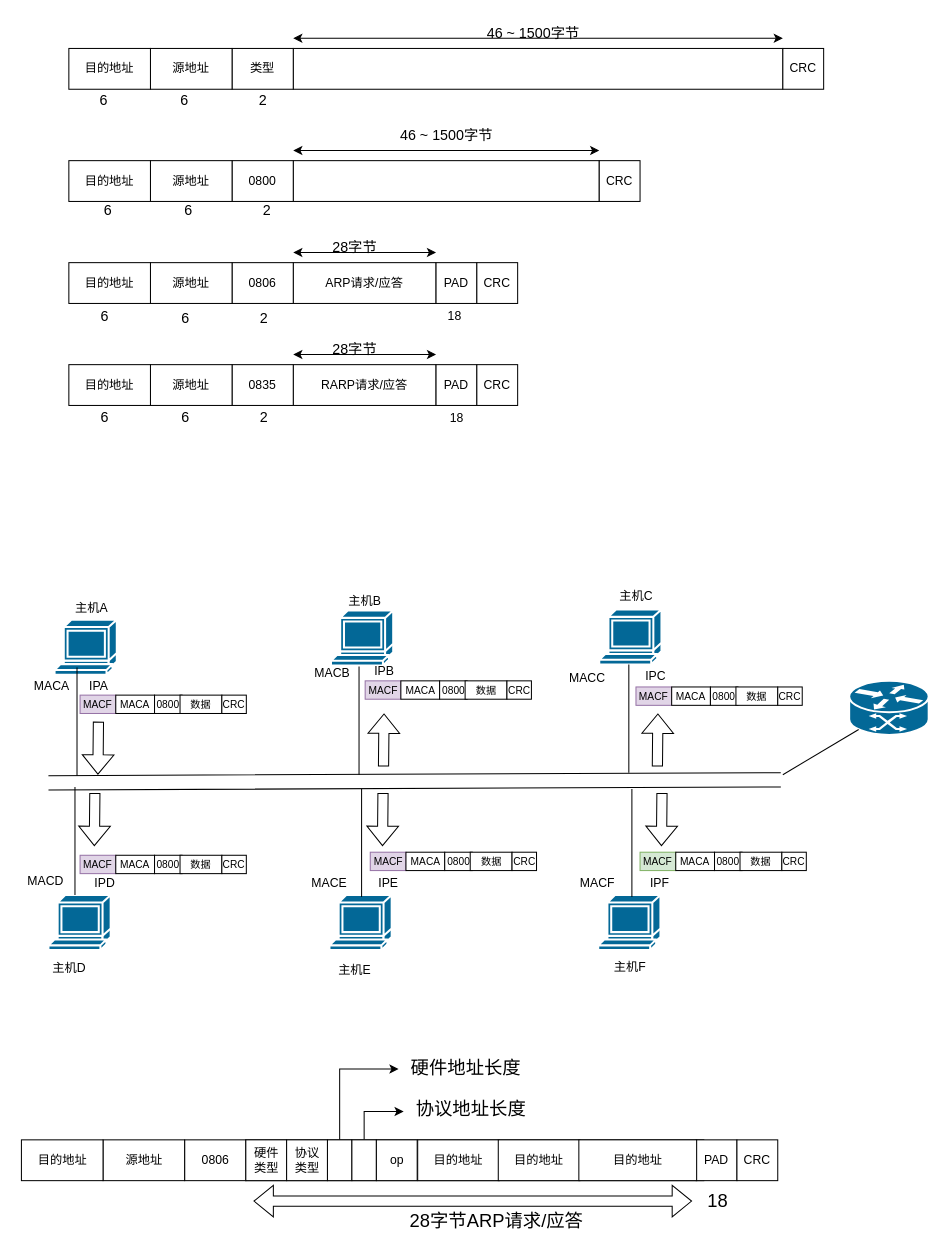
The diagram is 947 pixels wide and 1259 high, and some of its shapes have lost their labels. Here are the shapes that lost their labels. From the top down, the box of each, then its label:
(292, 47, 783, 89): 有效载荷
(292, 160, 599, 201): IP数据报
